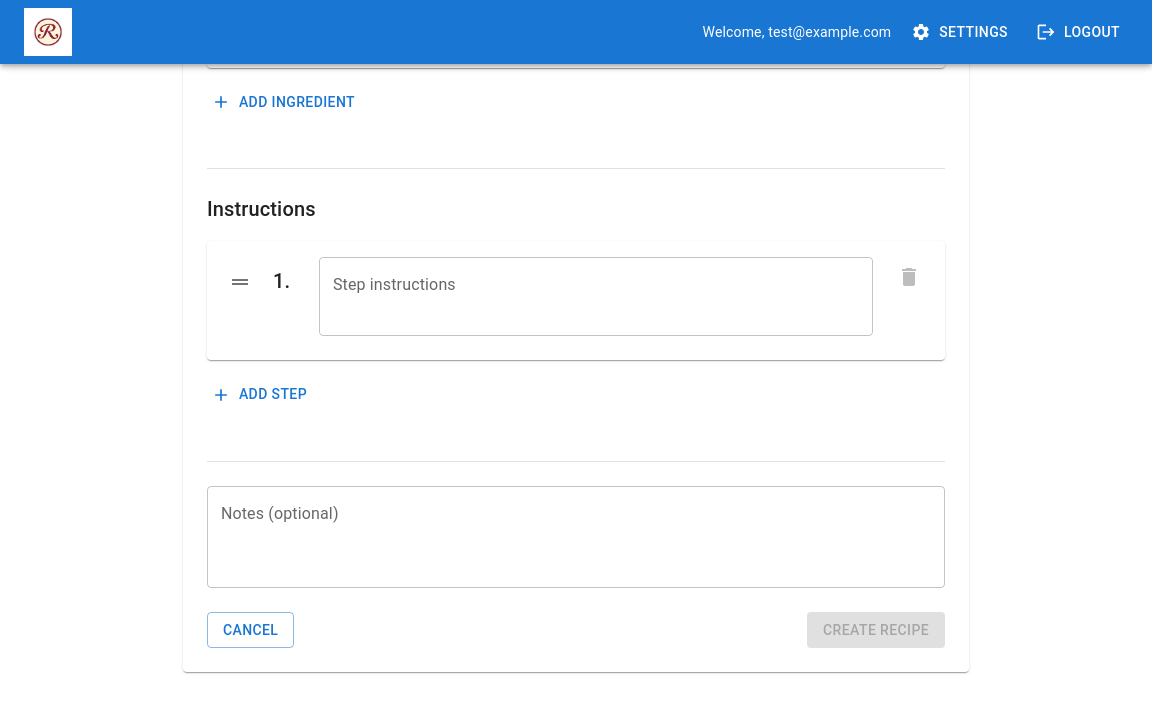
Test case: RecipeEditPage › Drag and drop functionality › steps are wrapped in sortable context
The width and height of the screenshot is (1152, 720).
(page scrolled)
Add multiple steps
Click the button "Add Step". click: coordinates (261, 395)
box: top-left (207, 376), bottom-right (315, 413)
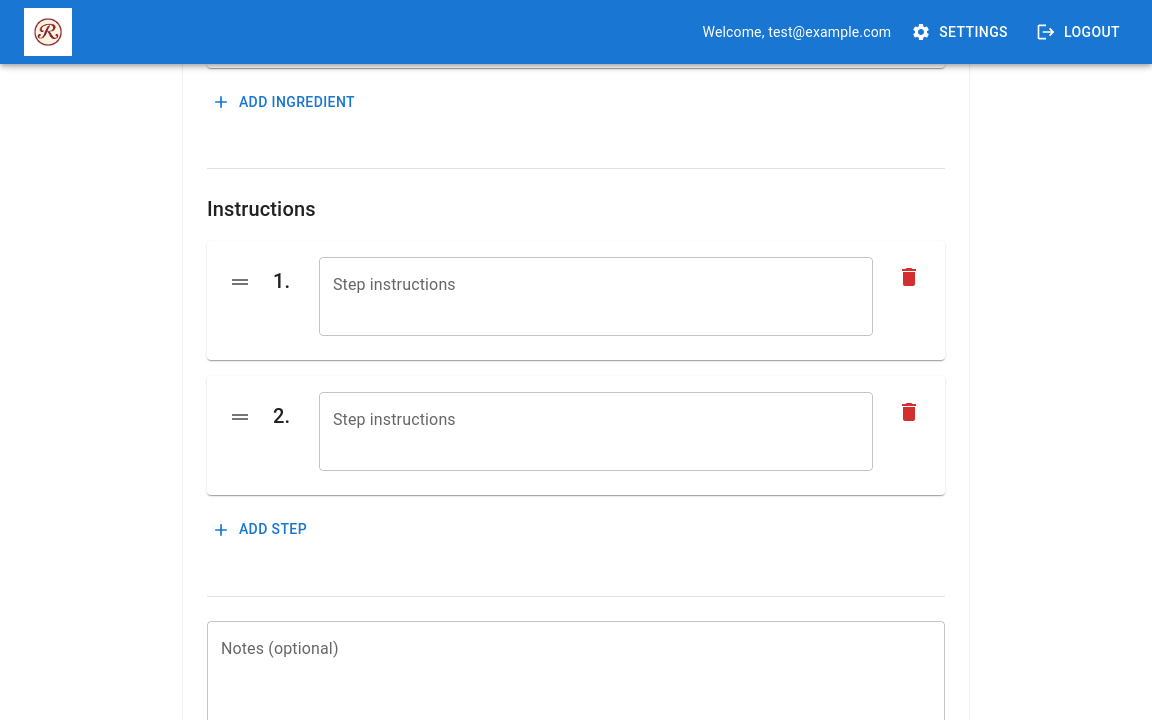
Click the button "Add Step". click: coordinates (261, 530)
box: top-left (207, 511), bottom-right (315, 548)
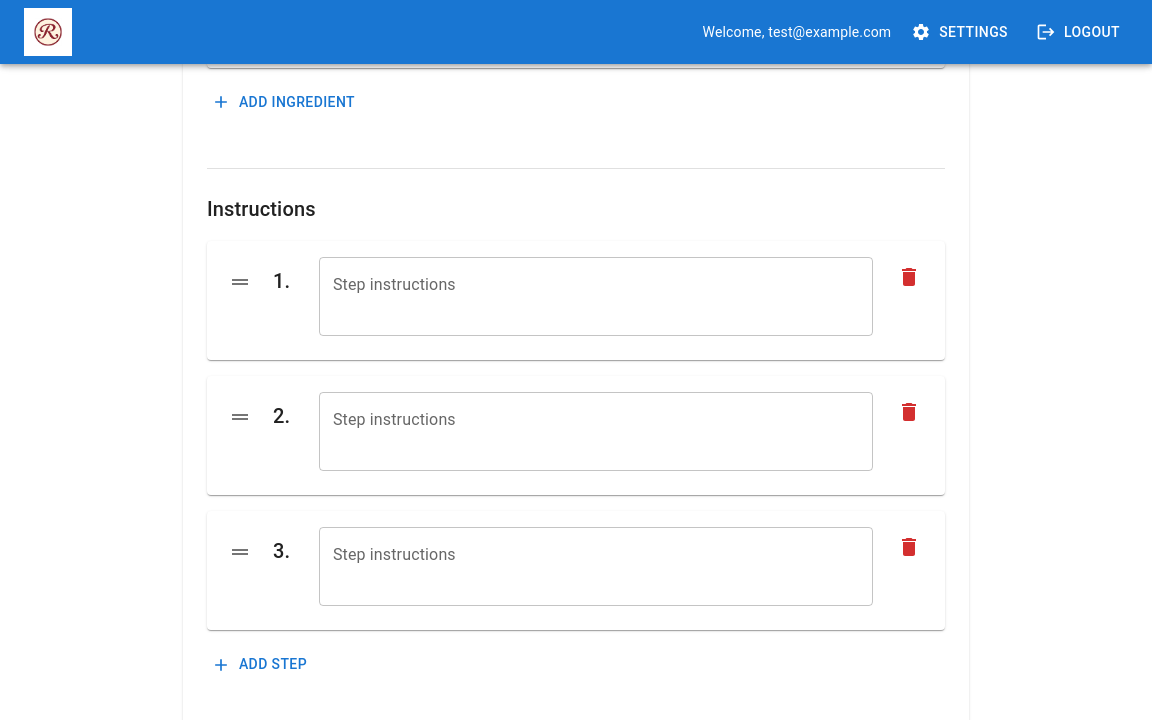
Expected: the heading "1." is shown, top-left (273, 269), bottom-right (290, 293)
Result: the heading "2." is shown at top-left (273, 404), bottom-right (290, 428)
Result: the heading "3." is shown at top-left (273, 539), bottom-right (290, 563)
